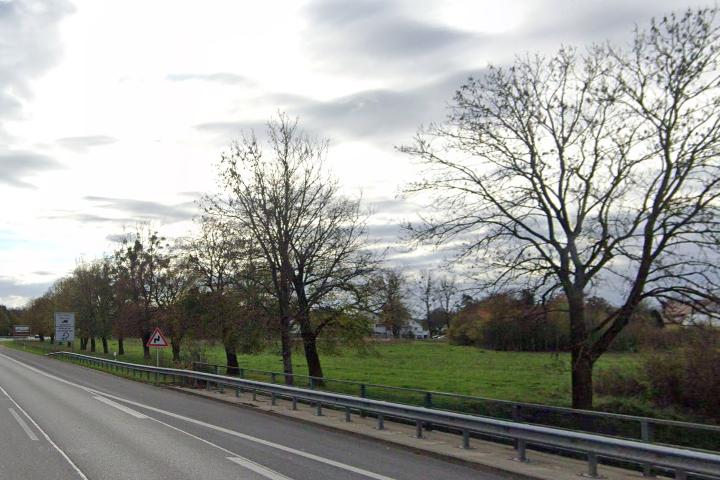traffic_sign: (145, 326, 168, 347)
